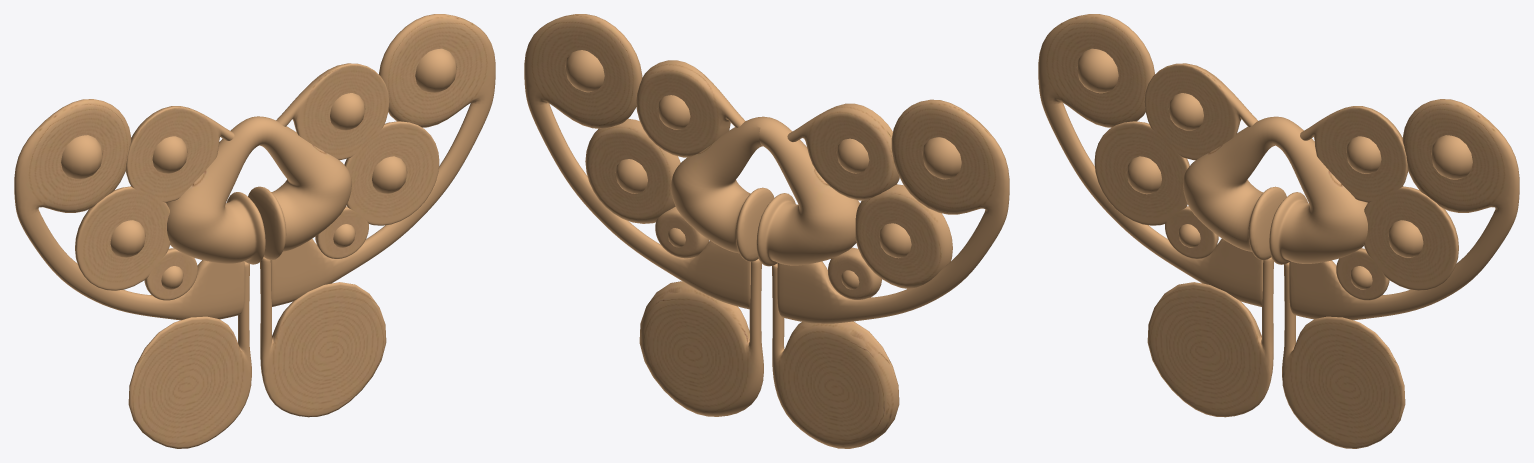
Rendered from tairona_-_nariguera_zoomorfa.glb.
3 views of the same model, side by side, from view 1: azimuth 30°, elevation 25°; view 2: azimuth 150°, elevation 25°; view 3: azimuth 330°, elevation 25° (orthographic).
Parts seen in each view (by area): view 1: Circle.001, Circle, Sphere.004; view 2: Circle.001, Circle, Sphere.004; view 3: Circle.001, Circle, Sphere.004.
Boxes of the visible parts, bbox=[...] form: Circle.001: bbox=[14, 14, 495, 448]; Circle: bbox=[166, 116, 351, 264]; Sphere.004: bbox=[61, 48, 457, 289]; Circle.001: bbox=[524, 14, 1009, 448]; Circle: bbox=[671, 116, 859, 266]; Sphere.004: bbox=[565, 50, 961, 289]; Circle.001: bbox=[1038, 14, 1519, 448]; Circle: bbox=[1183, 116, 1367, 264]; Sphere.004: bbox=[1076, 48, 1472, 289].
Bounding box in the file's own units: 8.23 × 6.08 × 1.12.
1 material, 1 textured.
